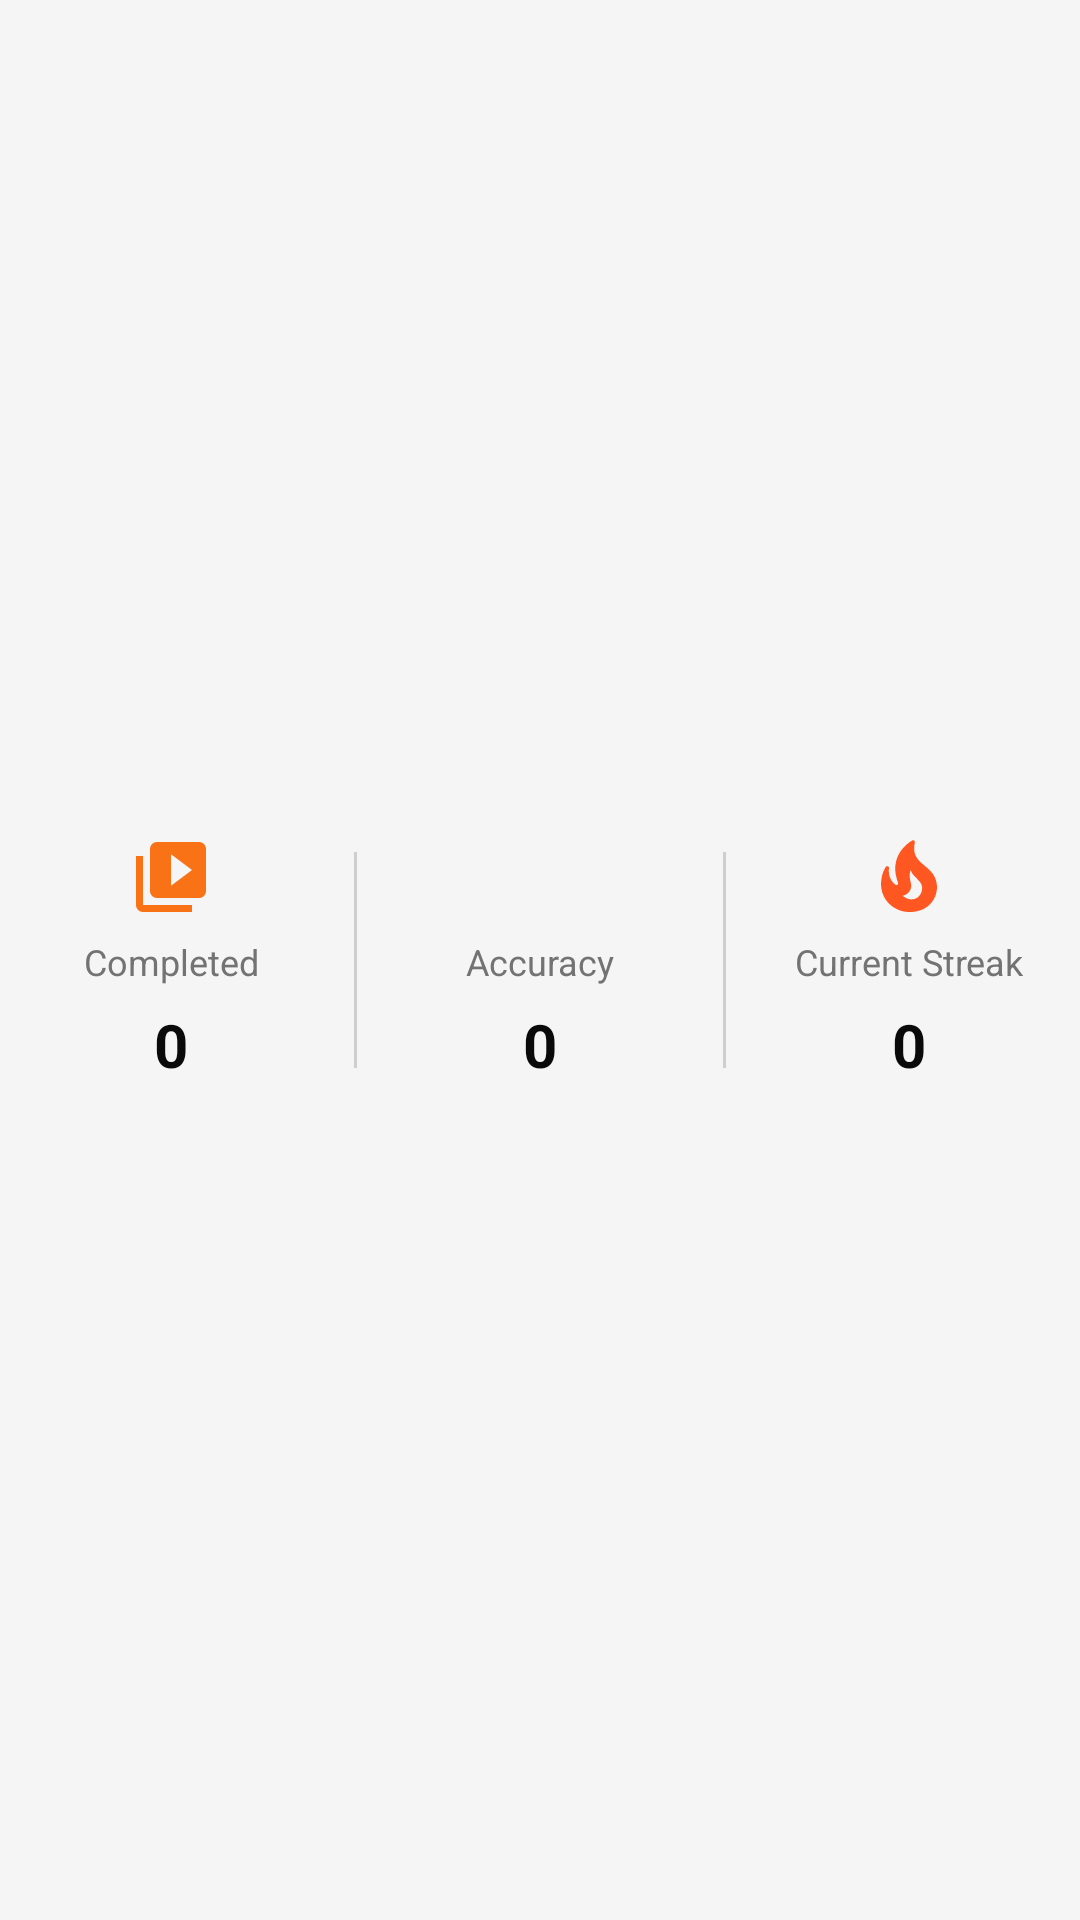

Icon click points for this 1080x1920 phone screenshot, format [x,y]:
fire: [909,876]
video library: [171,877]
